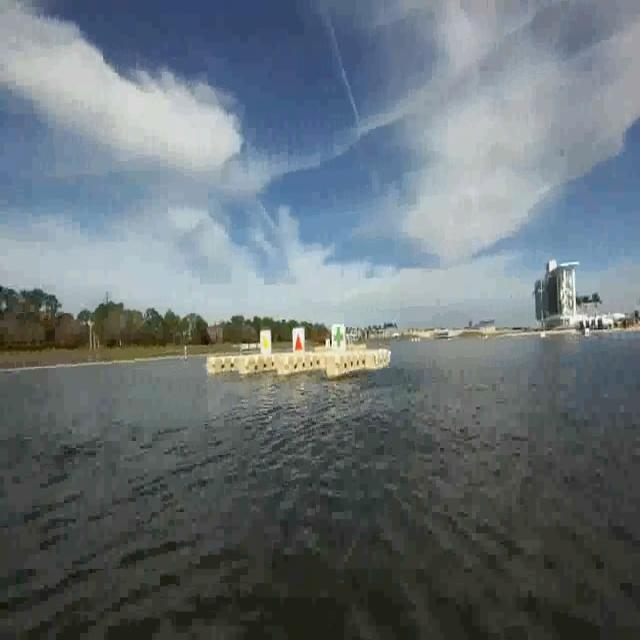blue-cross: (333, 324, 346, 355)
red-dot: (292, 330, 305, 358)
yellow-duck: (258, 332, 272, 359)
